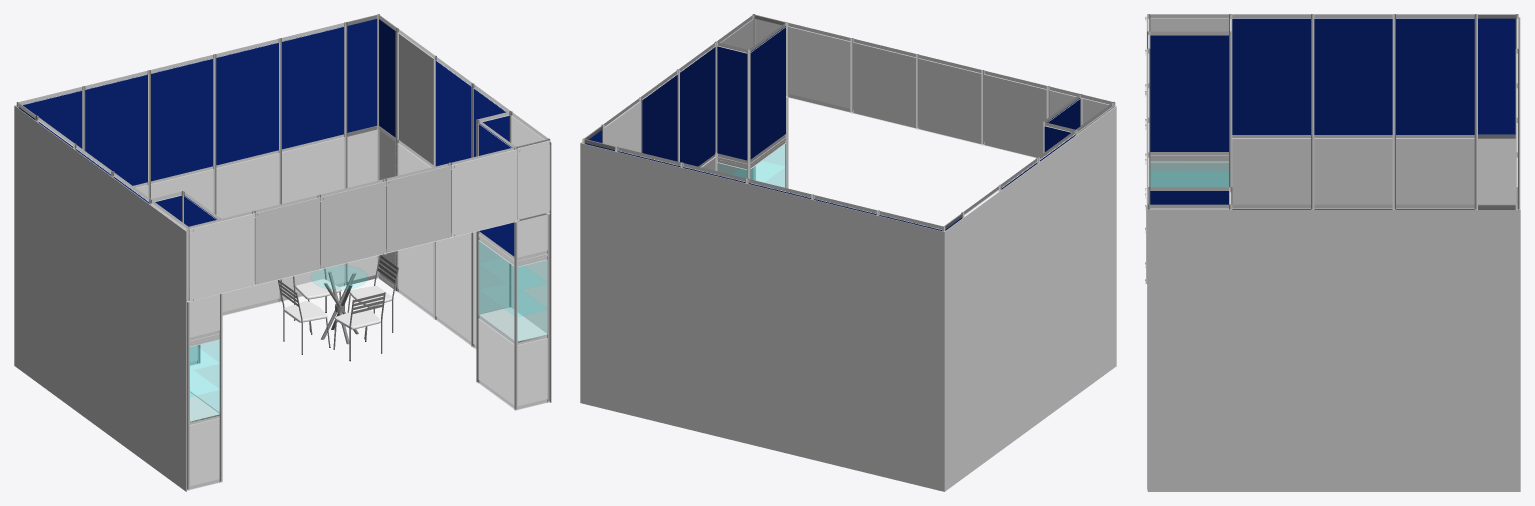
3 renders of one model, left to right at view 1: azimuth 30°, elevation 25°; view 2: azimuth 150°, elevation 25°; view 3: azimuth 270°, elevation 25°, orthographic. The views are drawn at different scales.
Parts seen in each view (by area): view 1: Box063; view 2: Box063; view 3: Box063.
Part boxes in pixels (x1,y1,x2,y2): Box063: (14, 14, 551, 491); Box063: (580, 14, 1116, 491); Box063: (1145, 14, 1520, 491).
Bounding box in the file's own units: 29.69 × 20.54 × 24.39.
